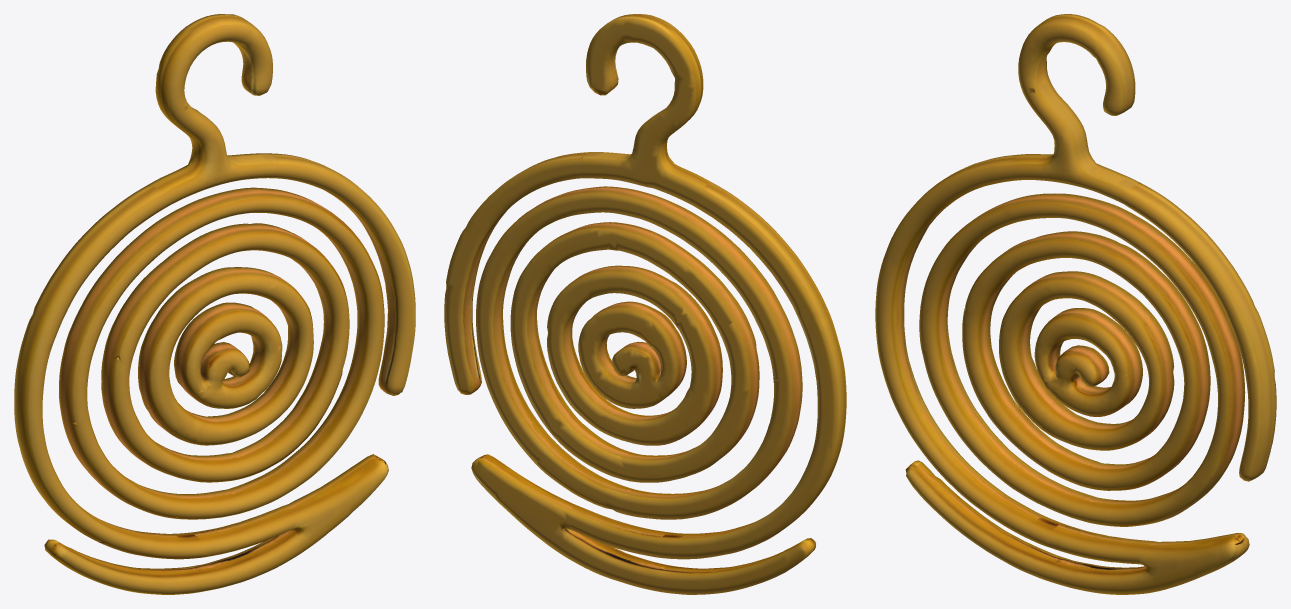
The model's file is spiral.glb.
3 renders of one model, left to right at view 1: azimuth 30°, elevation 25°; view 2: azimuth 150°, elevation 25°; view 3: azimuth 330°, elevation 25°, orthographic.
Size of the model in its own units: 1.45 by 2 by 0.0884.
1 material, 1 textured.
